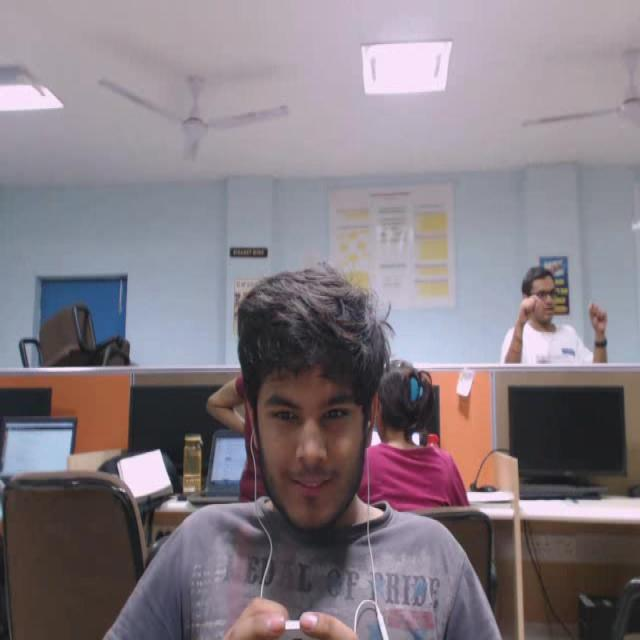Engaged: (208, 234, 430, 572)
